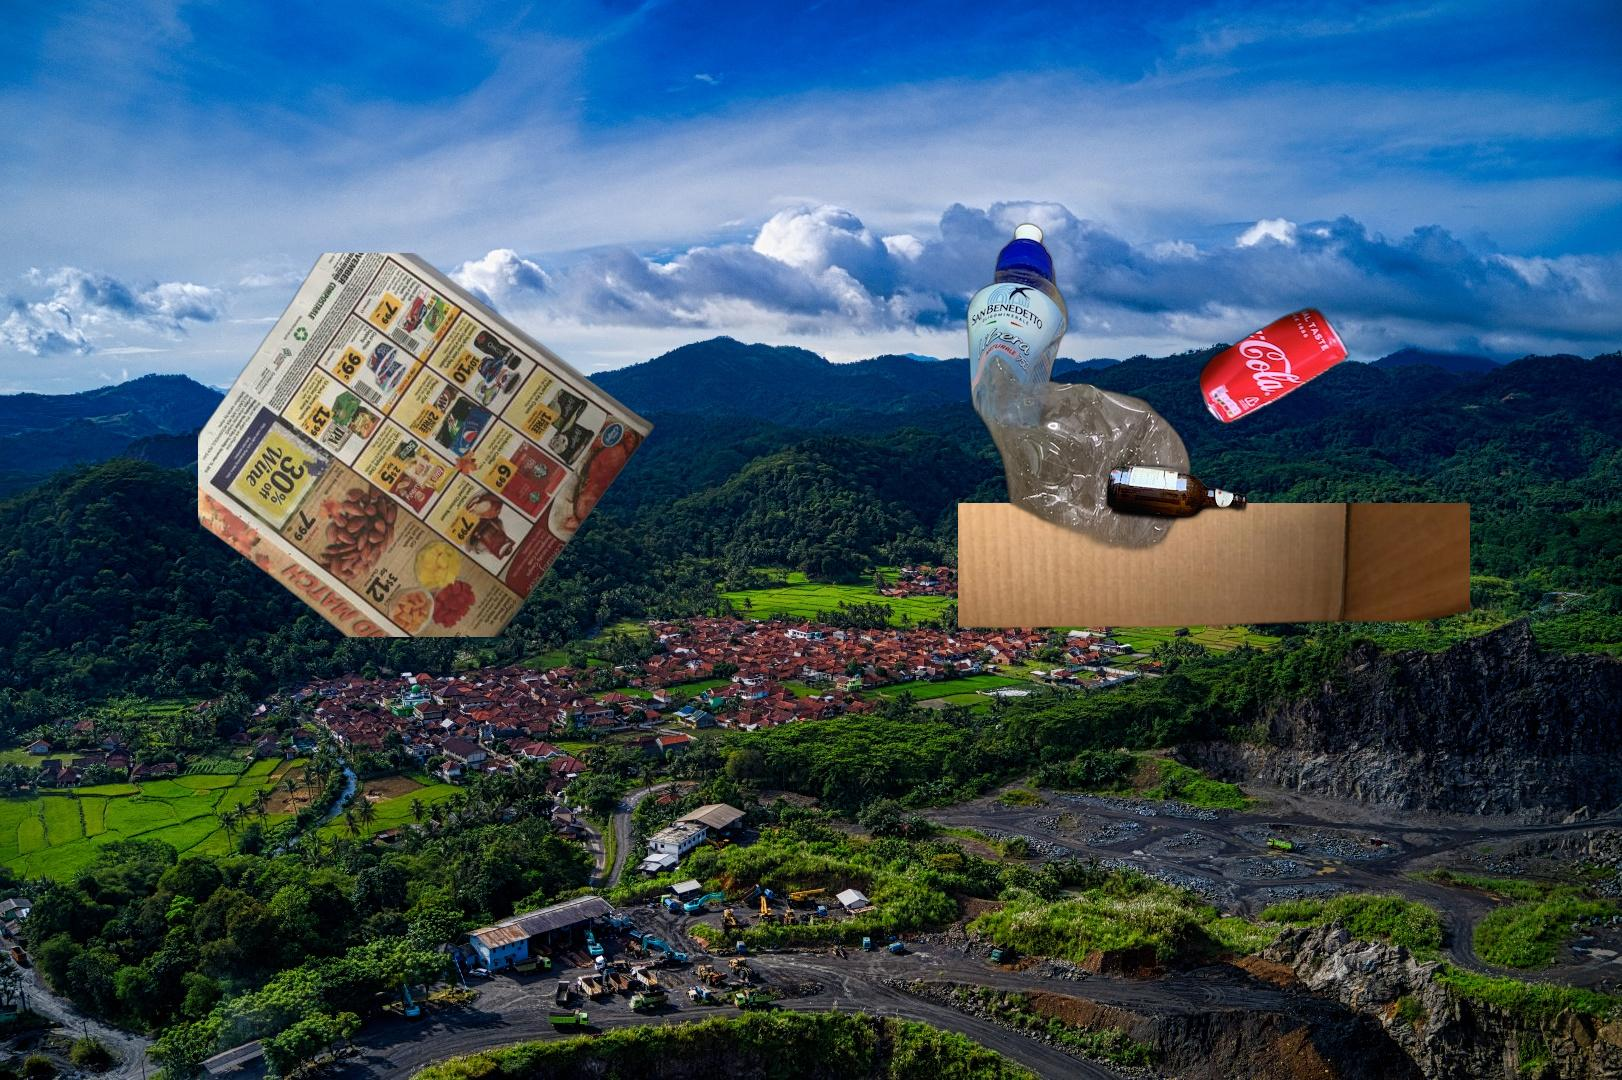glass: (1101, 458, 1252, 527)
metal-cans: (1195, 303, 1354, 430)
paper: (198, 253, 659, 636)
plastic-bottles: (964, 219, 1193, 559)
trashbox-cardboard: (958, 503, 1470, 632)
